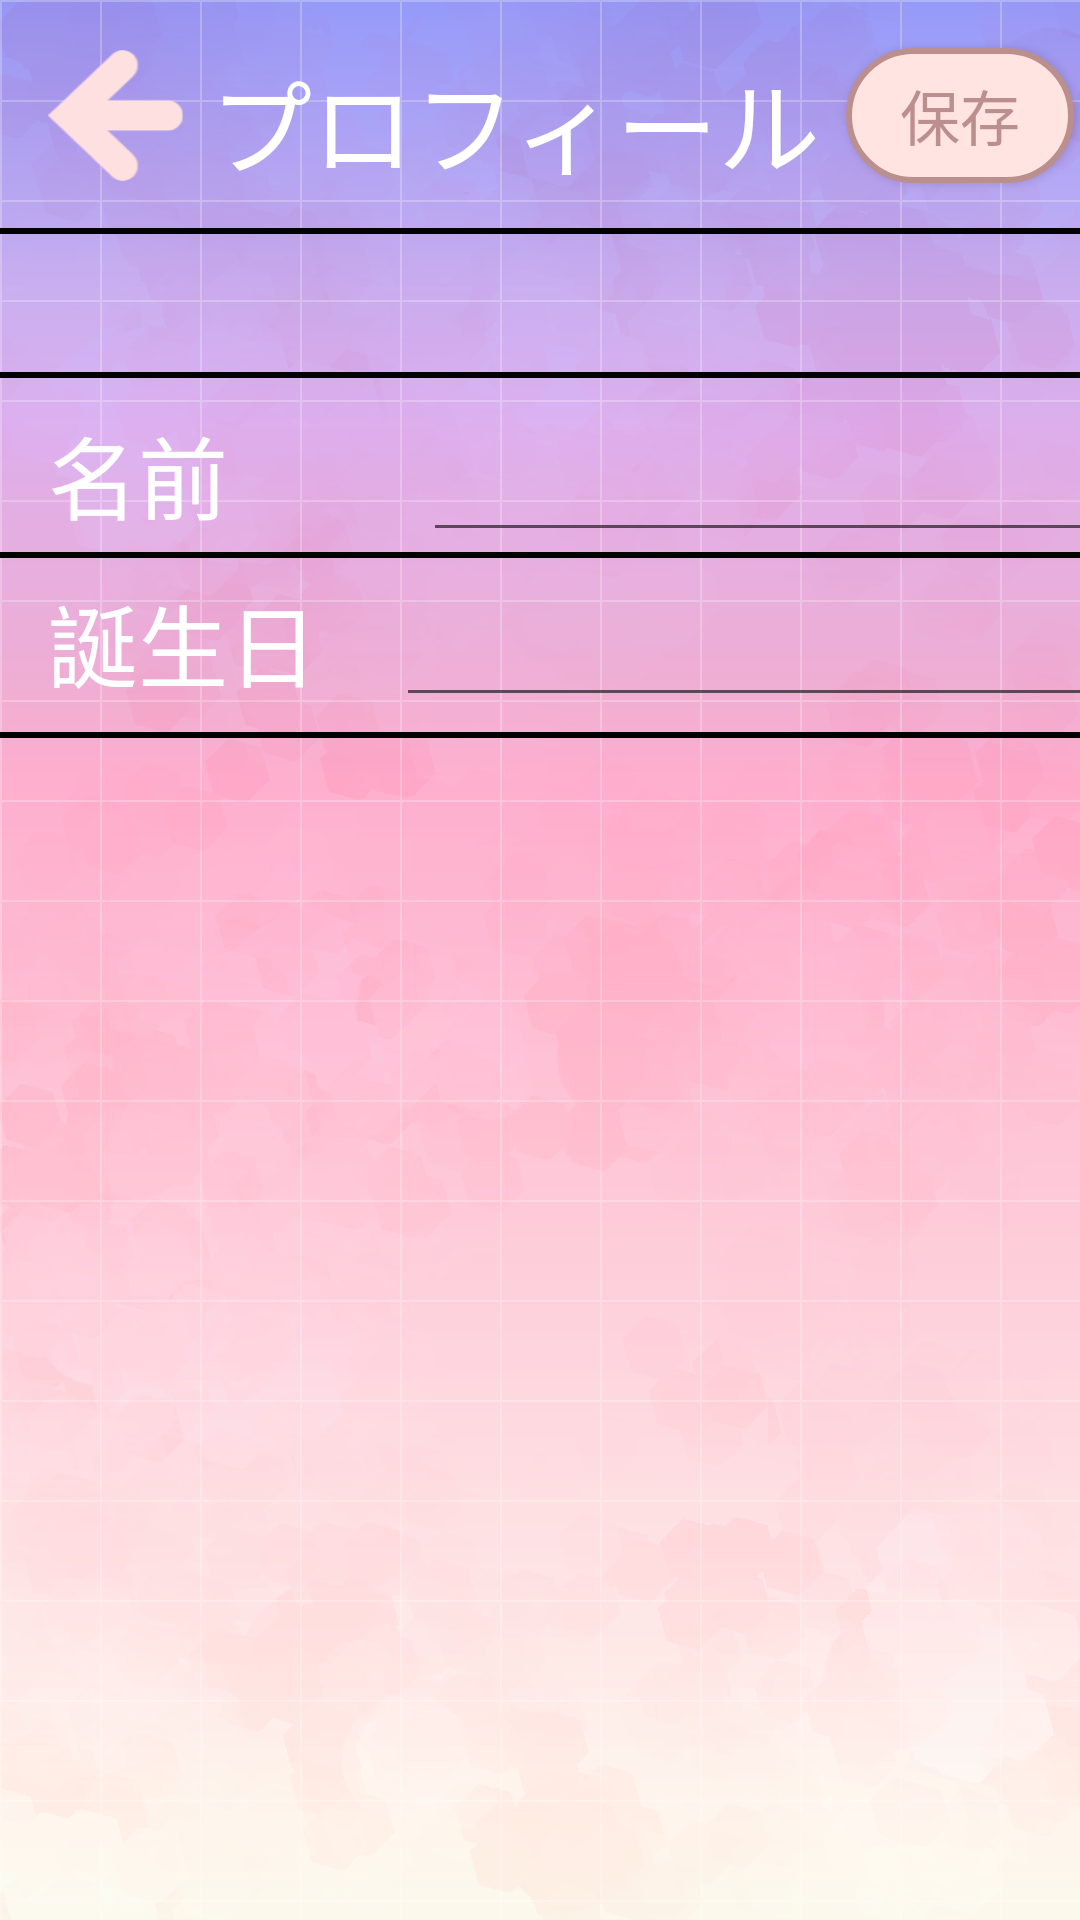

Locate icon controls on the screen. Image size 1080×1920, boxes as (x1, y1, x2, y2).
backbtn: (48, 48, 183, 183)
